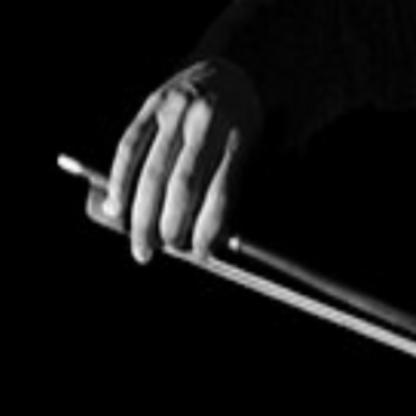good: (96, 81, 260, 268)
